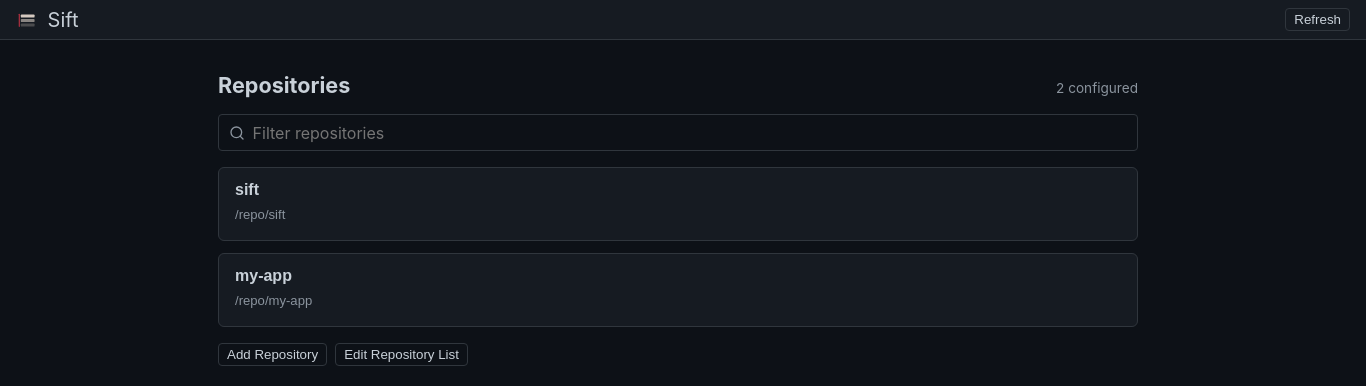
Test: RepositorySelection › toggles edit mode and shows delete controls
This screenshot has width=1366, height=386.
Click the button "Edit Repository List": [402, 354] box [335,343,468,366]
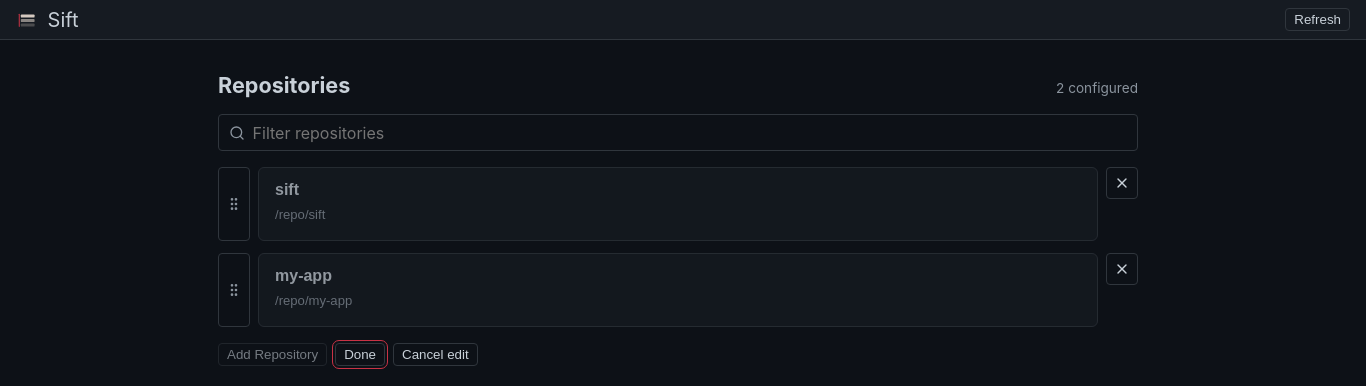
Check: the button "Done" is shown, box [335,343,385,366]
Check: the button "Cancel edit" is shown, box [393,343,478,366]
Check: the button named "Remove sift" is shown, box [1106,167,1138,199]
